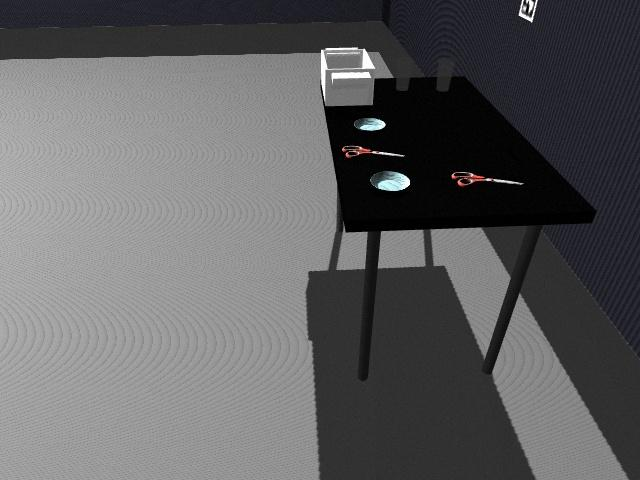cup: (436, 58, 454, 91), (395, 73, 410, 92)
plate: (369, 171, 412, 192), (353, 117, 387, 132)
scissors: (453, 171, 523, 187), (343, 145, 403, 159)
